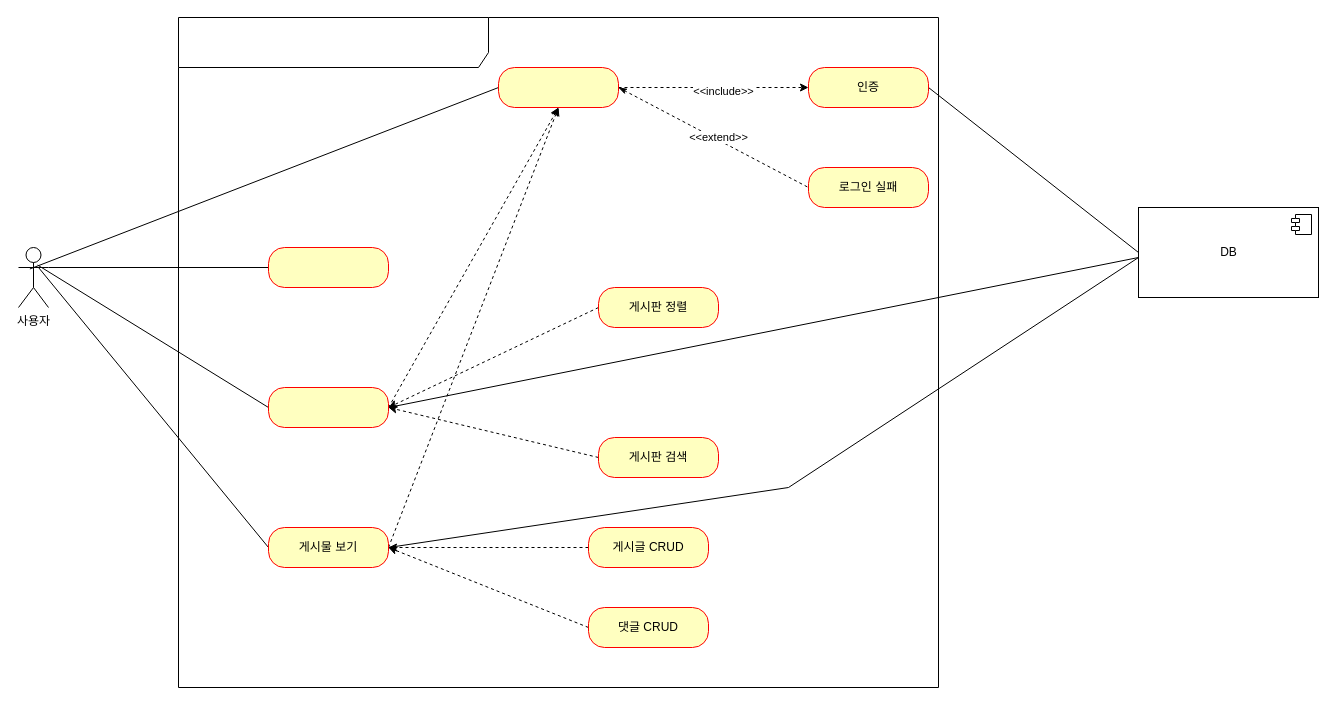
The diagram is 1336 pixels wide and 705 high, and some of its shapes have lost their labels. The box of each missing label's shape, as (x1, y1, x2, y2) in pixels:
게시판 보기: (268, 386, 388, 428)
게시판 서비스: (178, 16, 938, 688)
회원 가입: (268, 246, 388, 288)
회원 로그인: (498, 66, 618, 108)
